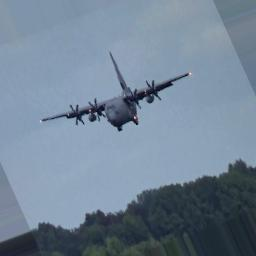Airplane: (38, 52, 192, 132)
